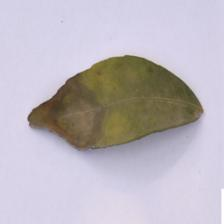black spot: (34, 61, 106, 158)
